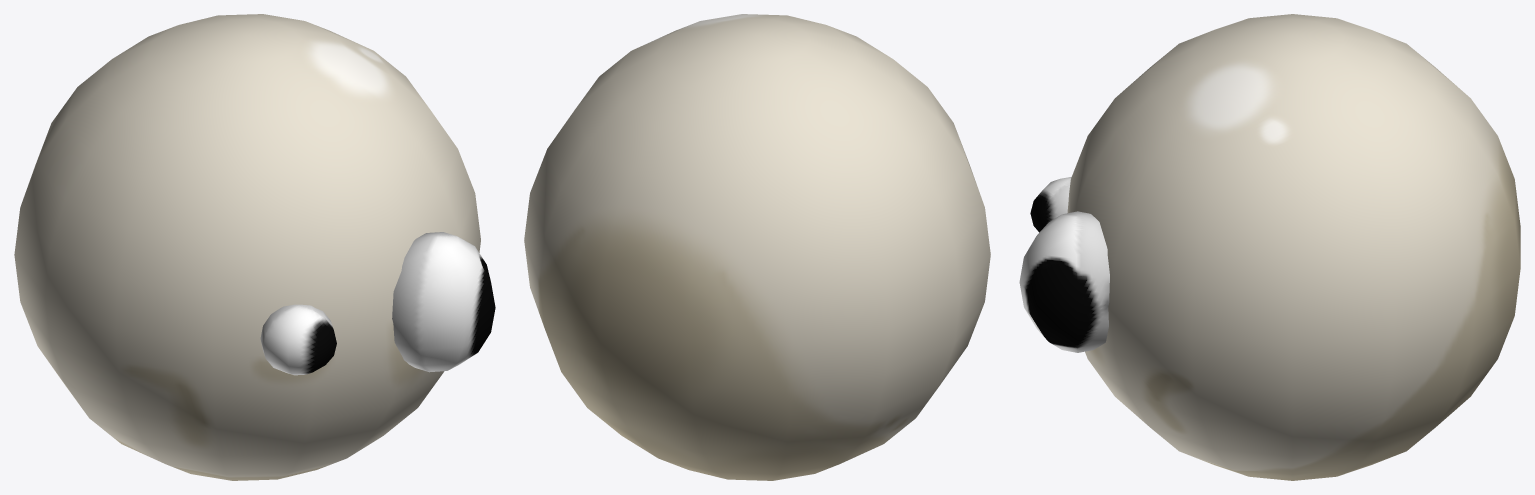
File: TRUMPETHEAD.fbx
3 views of the same model, side by side, from view 1: azimuth 30°, elevation 25°; view 2: azimuth 150°, elevation 25°; view 3: azimuth 270°, elevation 25° (orthographic).
Visible parts, largest first — view 1: Head, Eye_L, Eye_R; view 2: Head; view 3: Head, Eye_L, Eye_R.
Part boxes in pixels (bbox=[...]): Head: bbox=[14, 14, 480, 480]; Eye_L: bbox=[392, 232, 495, 372]; Eye_R: bbox=[260, 304, 336, 375]; Head: bbox=[524, 14, 990, 480]; Head: bbox=[1067, 14, 1520, 480]; Eye_L: bbox=[1019, 211, 1109, 352]; Eye_R: bbox=[1030, 177, 1071, 232].
Bounding box in the file's own units: 1.11 × 1.11 × 1.19.
Materials: 1 (1 with a texture image).
